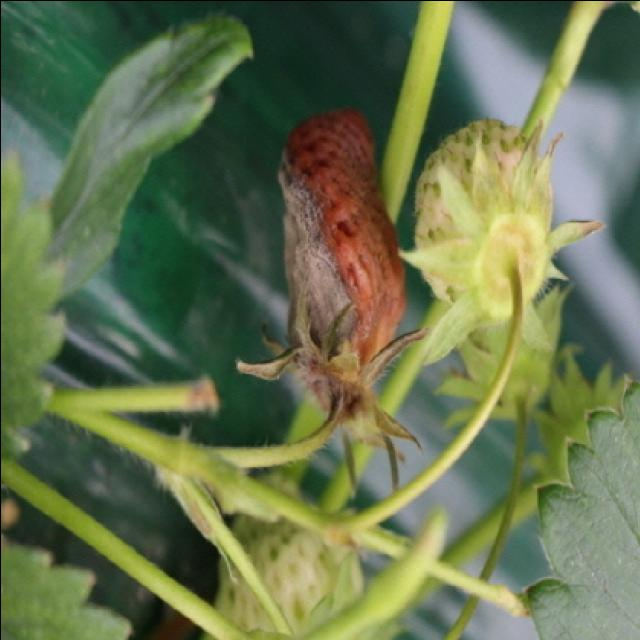Gray Mold: (234, 106, 430, 499)
